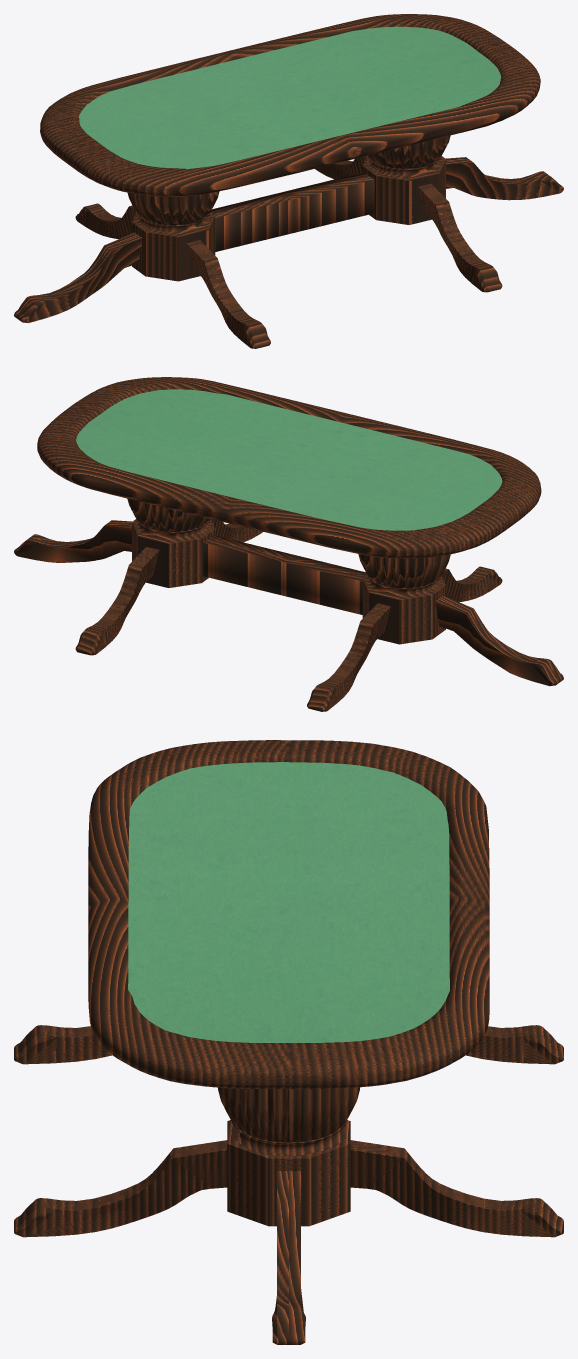
The model's file is Table.obj.
The picture shows the model from 3 angles, top to bottom: view 1: azimuth 30°, elevation 25°; view 2: azimuth 150°, elevation 25°; view 3: azimuth 270°, elevation 25°; orthographic projection. The views are drawn at different scales.
Visible parts, largest first — view 1: nurbsToPoly81group1, group1nurbsToPoly2, nurbsToPoly1group, group4nurbsToPoly6, group4group5nurbsToPoly88, group4group5nurbsToPoly100, group4nurbsToPoly18, group4nurbsToPoly43, nurbsToPoly27group4, group4nurbsToPoly82group5, group4nurbsToPoly105, group4nurbsToPoly25 (+7 smaller); view 2: nurbsToPoly81group1, group1nurbsToPoly2, nurbsToPoly1group, group4nurbsToPoly6, group4group5nurbsToPoly88, group4nurbsToPoly18, group4group5nurbsToPoly102, group4nurbsToPoly55, group4nurbsToPoly26, group4group5nurbsToPoly83, group4nurbsToPoly105, group4nurbsToPoly25 (+7 smaller); view 3: nurbsToPoly81group1, group1nurbsToPoly2, group4group5nurbsToPoly88, group4nurbsToPoly105, group4group5nurbsToPoly103, group4group5nurbsToPoly115, group4group5nurbsToPoly106, group4group5nurbsToPoly83, group4nurbsToPoly82group5, group4group5nurbsToPoly89, group4nurbsToPoly45, group4nurbsToPoly56 (+3 smaller).
Boxes of the visible parts, bbox=[...] form: nurbsToPoly81group1: bbox=[79, 26, 501, 168]; group1nurbsToPoly2: bbox=[40, 14, 540, 196]; nurbsToPoly1group: bbox=[211, 172, 374, 251]; group4nurbsToPoly6: bbox=[132, 215, 215, 281]; group4group5nurbsToPoly88: bbox=[362, 159, 445, 224]; group4group5nurbsToPoly100: bbox=[446, 162, 559, 200]; group4nurbsToPoly18: bbox=[127, 191, 219, 225]; group4nurbsToPoly43: bbox=[29, 238, 142, 322]; nurbsToPoly27group4: bbox=[187, 240, 269, 348]; group4nurbsToPoly82group5: bbox=[418, 183, 500, 292]; group4nurbsToPoly105: bbox=[368, 135, 450, 168]; group4nurbsToPoly25: bbox=[14, 232, 142, 321]; nurbsToPoly81group1: bbox=[76, 389, 502, 530]; group1nurbsToPoly2: bbox=[37, 377, 541, 558]; nurbsToPoly1group: bbox=[203, 535, 366, 614]; group4nurbsToPoly6: bbox=[362, 578, 445, 644]; group4group5nurbsToPoly88: bbox=[132, 522, 215, 587]; group4nurbsToPoly18: bbox=[358, 554, 450, 588]; group4group5nurbsToPoly102: bbox=[18, 525, 131, 562]; group4nurbsToPoly55: bbox=[435, 601, 548, 685]; group4nurbsToPoly26: bbox=[308, 603, 390, 711]; group4group5nurbsToPoly83: bbox=[77, 546, 159, 655]; group4nurbsToPoly105: bbox=[127, 498, 209, 531]; group4nurbsToPoly25: bbox=[435, 595, 563, 685]; nurbsToPoly81group1: bbox=[128, 762, 449, 1042]; group1nurbsToPoly2: bbox=[88, 740, 489, 1089]; group4group5nurbsToPoly88: bbox=[227, 1121, 350, 1226]; group4nurbsToPoly105: bbox=[218, 1087, 359, 1142]; group4group5nurbsToPoly103: bbox=[23, 1150, 227, 1237]; group4group5nurbsToPoly115: bbox=[350, 1150, 554, 1237]; group4group5nurbsToPoly106: bbox=[277, 1171, 300, 1344]; group4group5nurbsToPoly83: bbox=[350, 1140, 563, 1233]; group4nurbsToPoly82group5: bbox=[14, 1140, 227, 1230]; group4group5nurbsToPoly89: bbox=[231, 1122, 346, 1156]; group4nurbsToPoly45: bbox=[23, 1035, 111, 1064]; group4nurbsToPoly56: bbox=[466, 1035, 554, 1064].
Size of the model in its own units: 20.25 by 5.72 by 11.61.
